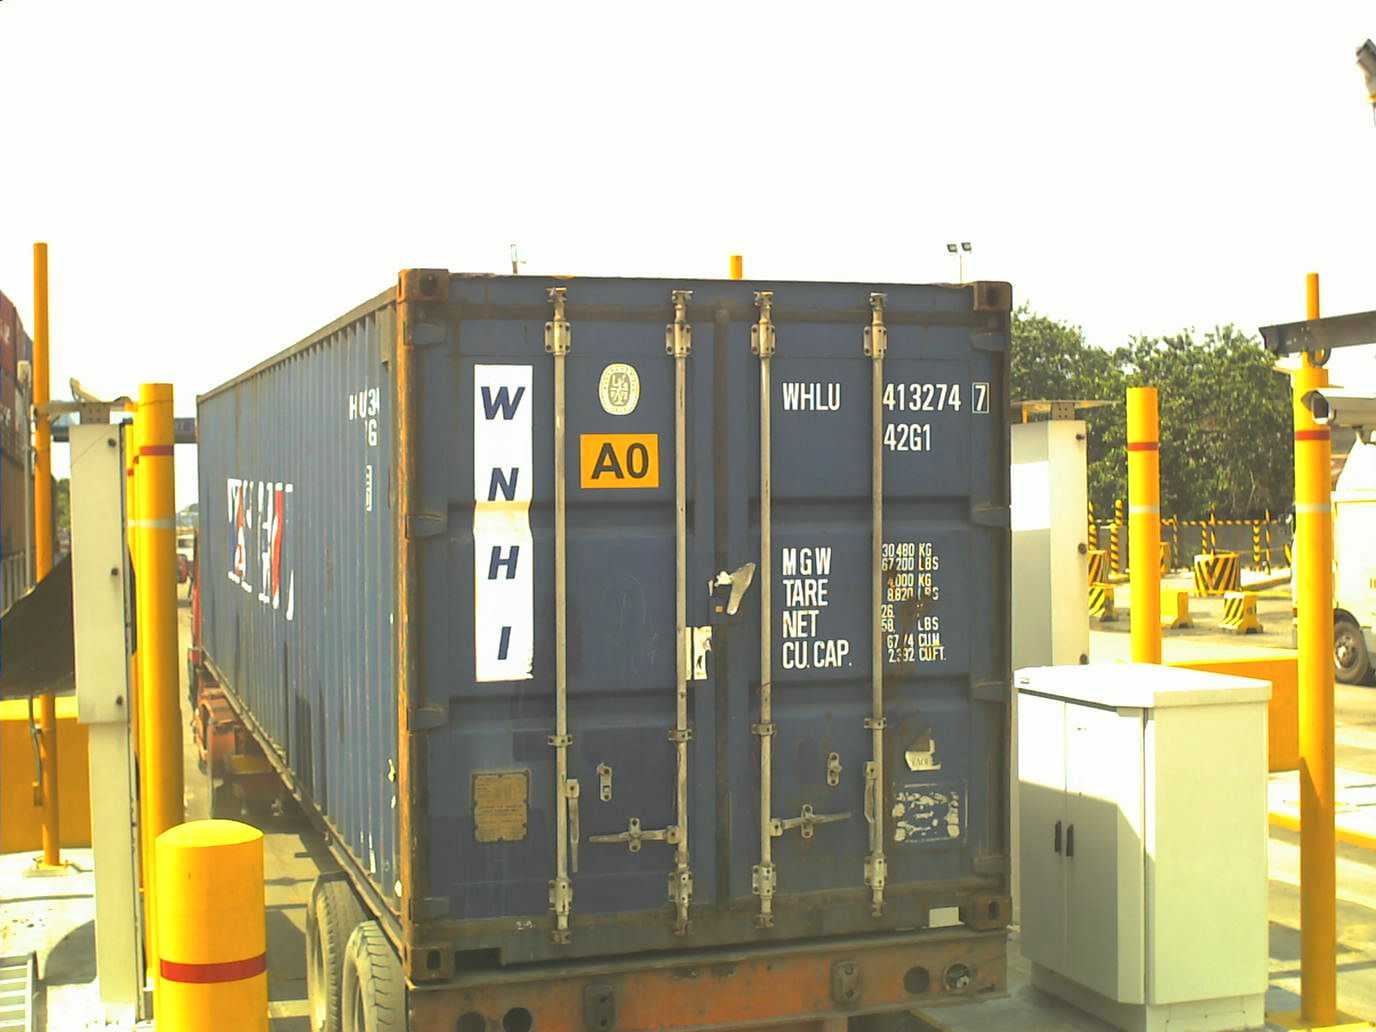container_door: (397, 276, 1015, 992)
